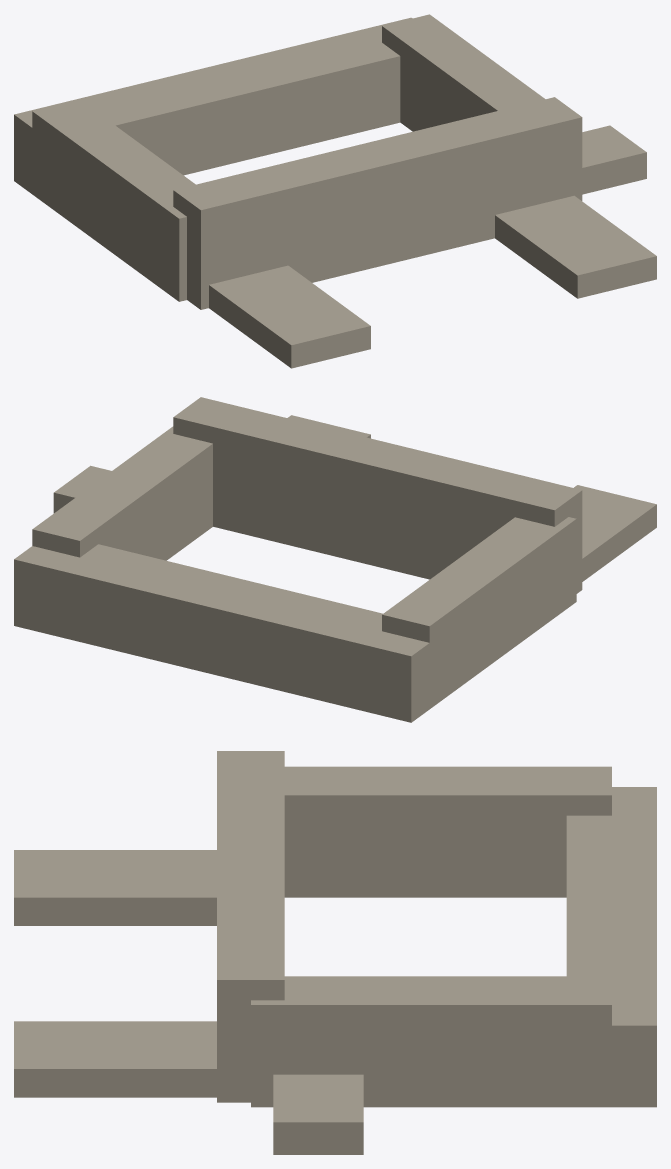
The model's file is SM_HoldersWakeBackRoutes_Alpha.gltf.
3 views of the same model, one above another, from view 1: azimuth 30°, elevation 25°; view 2: azimuth 150°, elevation 25°; view 3: azimuth 270°, elevation 25° (orthographic). The views are drawn at different scales.
Visible parts, largest first — view 1: SM_CrownCitadelApproach_Alpha; view 2: SM_CrownCitadelApproach_Alpha; view 3: SM_CrownCitadelApproach_Alpha.
Part boxes in pixels (x1=…): SM_CrownCitadelApproach_Alpha: x1=14, y1=14, x2=656, y2=368; SM_CrownCitadelApproach_Alpha: x1=14, y1=397, x2=656, y2=722; SM_CrownCitadelApproach_Alpha: x1=14, y1=751, x2=656, y2=1154.
Bounding box in the file's own units: 30 × 6 × 28.5.
